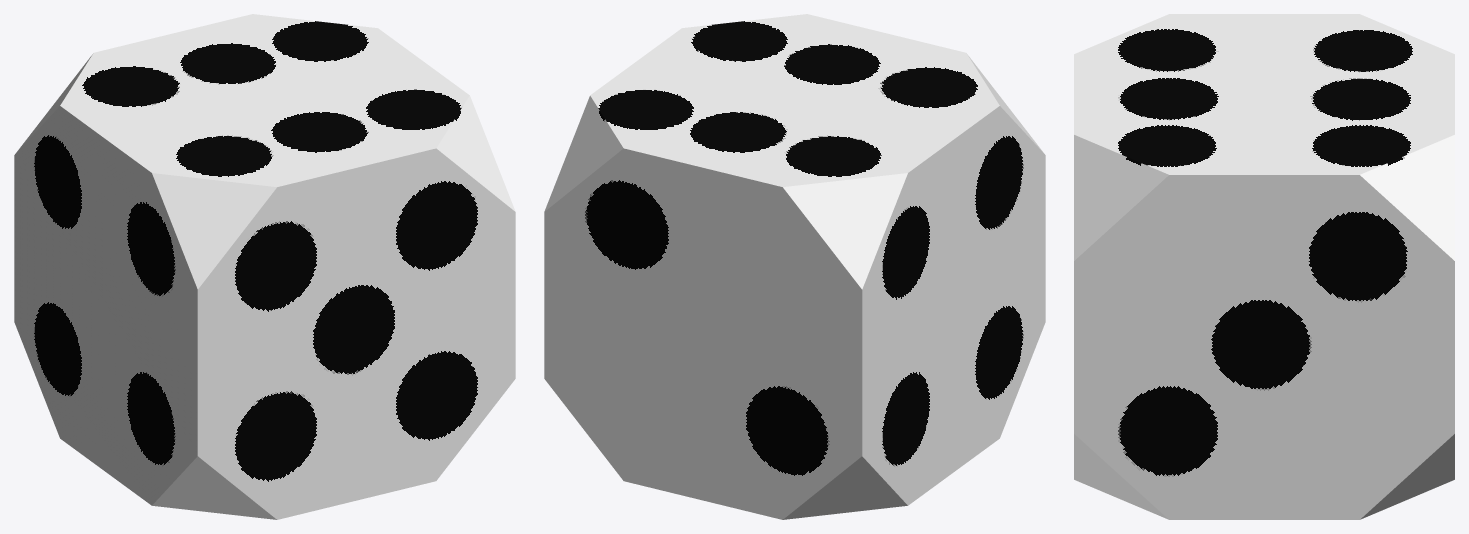
The model's file is dice.glb.
The picture shows the model from 3 angles, left to right: view 1: azimuth 30°, elevation 25°; view 2: azimuth 150°, elevation 25°; view 3: azimuth 270°, elevation 25°; orthographic projection. The views are drawn at different scales.
Parts seen in each view (by area): view 1: Dice; view 2: Dice; view 3: Dice.
Boxes of the visible parts, x1=… form: Dice: x1=14, y1=14, x2=515, y2=519; Dice: x1=544, y1=14, x2=1045, y2=519; Dice: x1=1074, y1=14, x2=1454, y2=519.
Size of the model in its own units: 0.016 by 0.016 by 0.016.
Materials: 1 (1 with a texture image).
